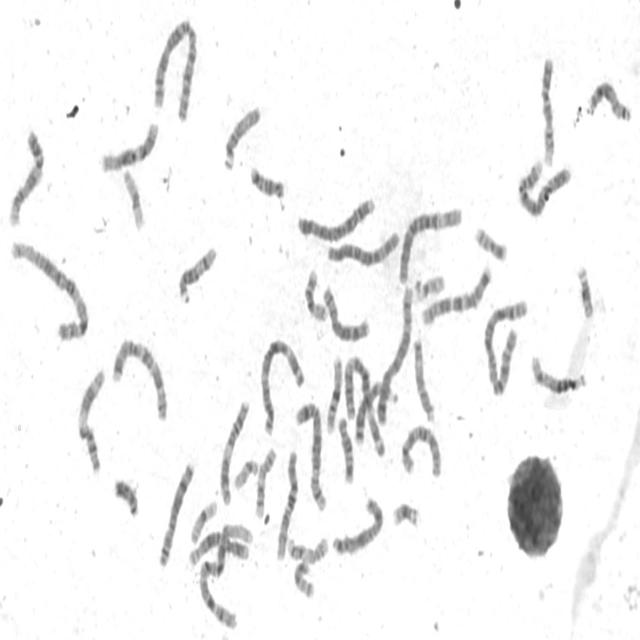A1: (6, 235, 91, 343), (195, 518, 253, 633)
A2: (150, 13, 200, 124), (482, 293, 530, 398)
A3: (257, 332, 306, 437), (342, 350, 386, 460)
B4: (295, 192, 376, 244), (514, 153, 572, 219)
B5: (374, 278, 415, 428), (292, 396, 328, 514)
C10: (273, 444, 301, 562), (399, 420, 443, 482)
C11: (217, 394, 251, 508), (74, 362, 107, 477)
C12: (97, 115, 160, 174), (186, 525, 252, 569)
C6: (395, 201, 464, 287), (324, 226, 402, 270)
C7: (109, 331, 170, 423), (419, 260, 494, 327)
C8: (155, 455, 196, 570), (319, 280, 372, 344)
C9: (5, 123, 46, 229), (538, 50, 556, 169)
D13: (352, 376, 398, 448), (584, 74, 633, 124)
D14: (175, 240, 218, 306), (528, 349, 588, 396)
D15: (220, 99, 262, 173), (411, 334, 436, 424)
E16: (323, 349, 344, 436), (301, 263, 329, 324)
E17: (252, 444, 278, 522), (284, 530, 330, 566)
E18: (247, 160, 286, 201), (335, 411, 355, 486)
F19: (120, 163, 146, 233), (188, 496, 218, 546)
F20: (472, 220, 508, 263), (292, 556, 316, 601)
G21: (573, 259, 596, 321), (390, 497, 421, 531)
G22: (411, 269, 446, 304), (230, 454, 260, 493)
X: (329, 492, 385, 559)
Y: (111, 472, 140, 520)
